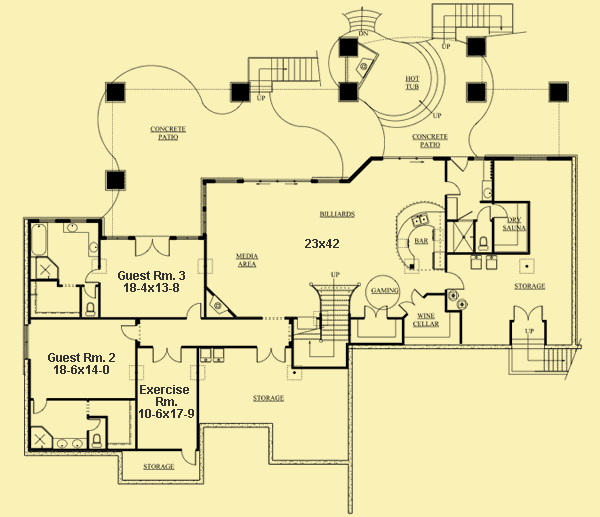bathroom has a shower space with small and large sink: (442, 156, 495, 254)
bathroom has a tub and shower space with small and large sink: (24, 216, 104, 318)
bathroom has shower space with dual sink and large sink: (24, 397, 112, 456)
there are stairs in the open area: (322, 2, 533, 126)
